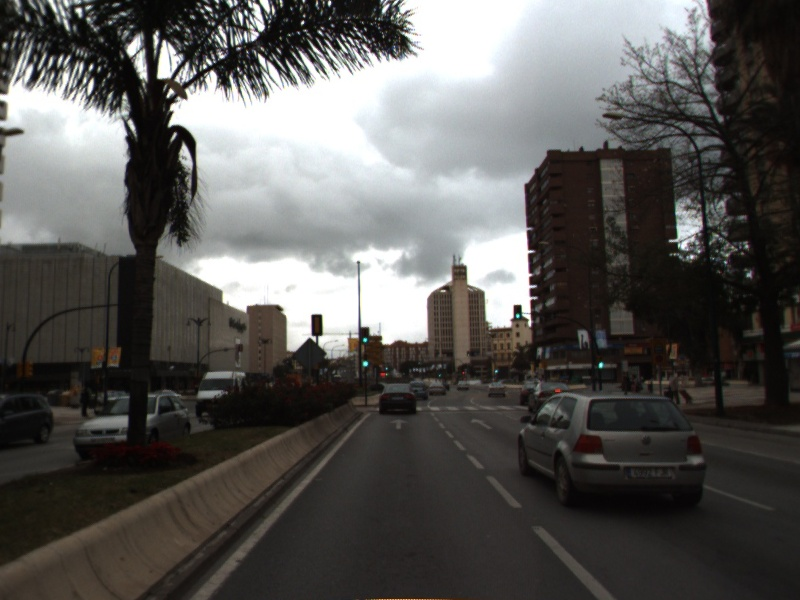STRAIGHT: (469, 416, 495, 431), (388, 416, 411, 431)
